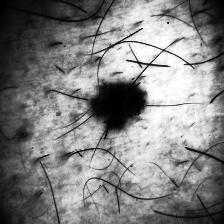Benign Marking or Mole: (90, 82, 148, 131)
